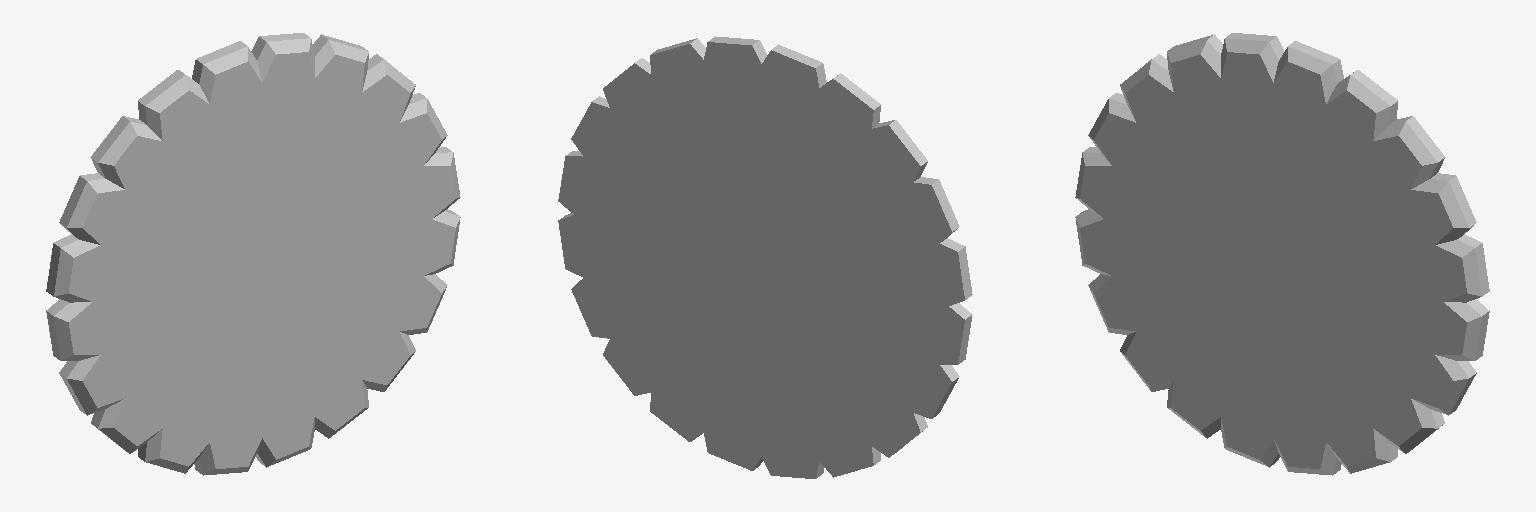
The model's file is wheel.obj.
The picture shows the model from 3 angles: view 1: azimuth 30°, elevation 25°; view 2: azimuth 150°, elevation 25°; view 3: azimuth 330°, elevation 25°; orthographic projection.
Visible parts, largest first — view 1: Solid 1117; view 2: Solid 1117; view 3: Solid 1117.
Part boxes in pixels (left/top/right/bottom): Solid 1117: left=46, top=33, right=460, bottom=475; Solid 1117: left=558, top=36, right=972, bottom=478; Solid 1117: left=1075, top=33, right=1489, bottom=475.
Size of the model in its own units: 22.81 by 22.81 by 1.23.